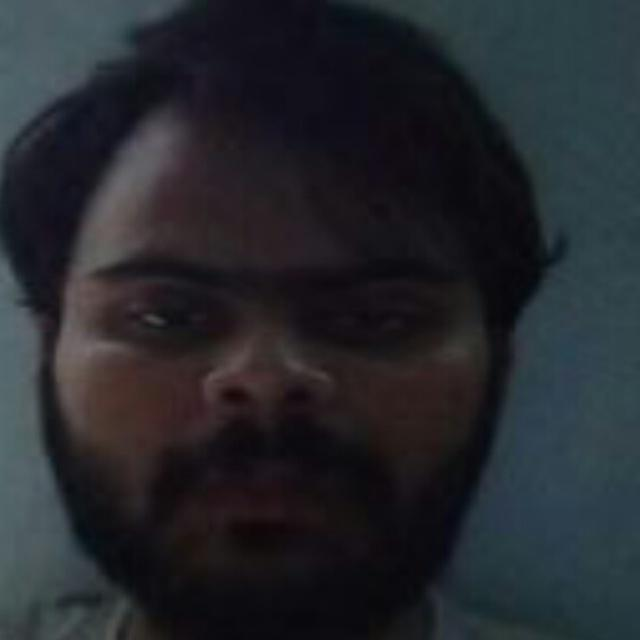Sad: (58, 95, 494, 605)
